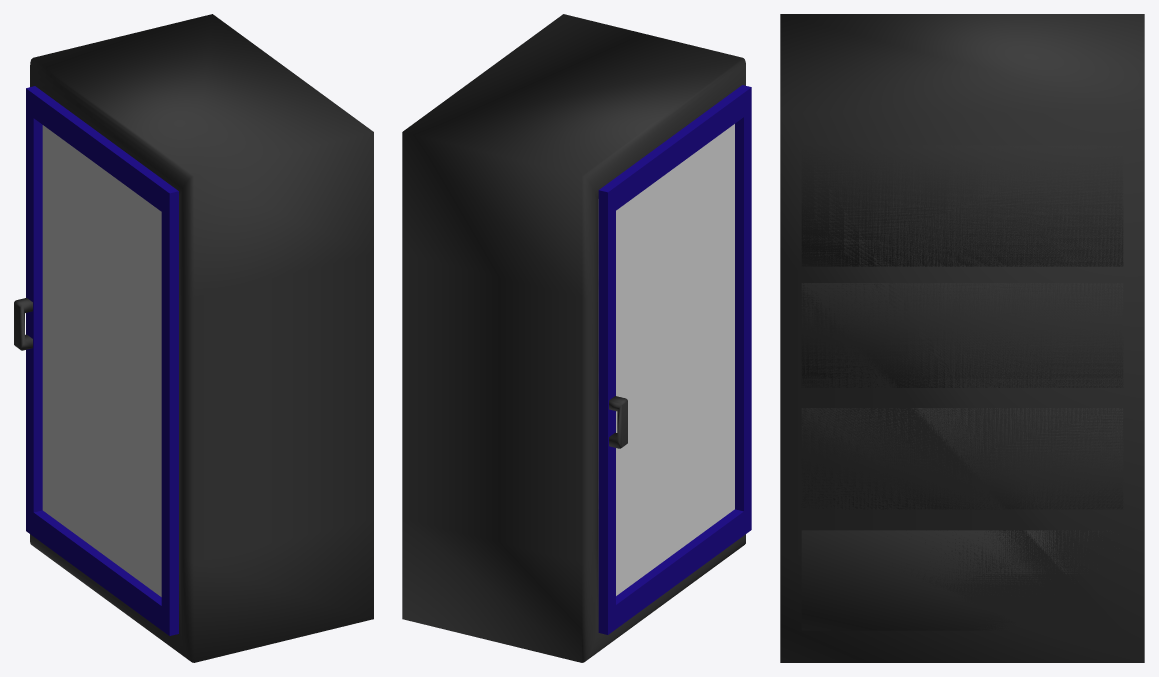
File: frigo01Bleu.fbx
The picture shows the model from 3 angles, left to right: view 1: azimuth 30°, elevation 25°; view 2: azimuth 150°, elevation 25°; view 3: azimuth 270°, elevation 25°; orthographic projection. The views are drawn at different scales.
Visible parts, largest first — view 1: armoire, Porte, Poignée; view 2: armoire, Porte, Poignée; view 3: armoire.
Part boxes in pixels (x1=…): armoire: x1=30, y1=14, x2=373, y2=662; Porte: x1=26, y1=86, x2=178, y2=635; Poignée: x1=14, y1=298, x2=32, y2=350; armoire: x1=402, y1=14, x2=745, y2=662; Porte: x1=598, y1=85, x2=751, y2=634; Poignée: x1=609, y1=396, x2=627, y2=448; armoire: x1=780, y1=14, x2=1144, y2=662.
Size of the model in its own units: 449 by 1000 by 600.
